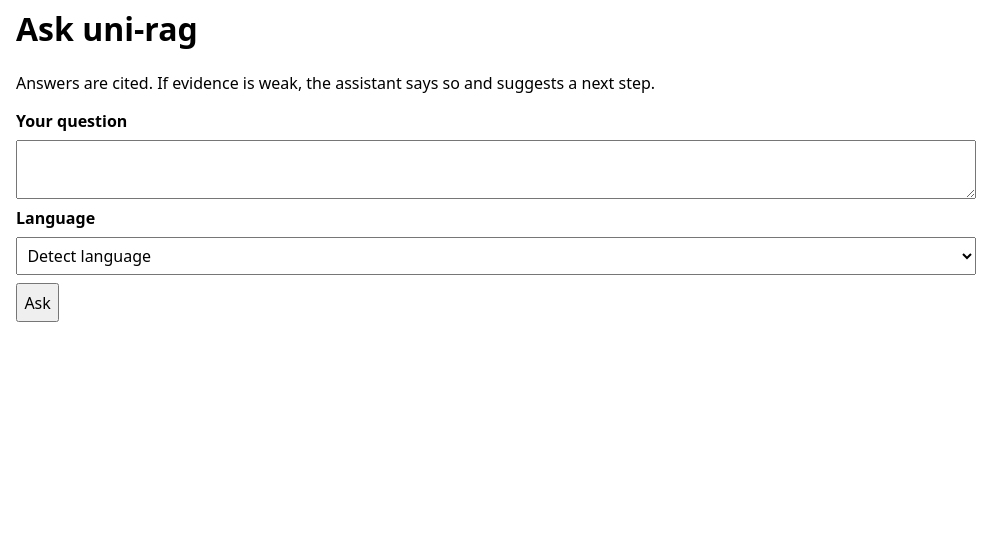
Test case: ChatPage › renders abstention guidance with no fabricated citation chips
The image size is (993, 536).
In the text box labelled "Your question": (496, 169) 16,140 -> 976,199, type "When is the fee due?"
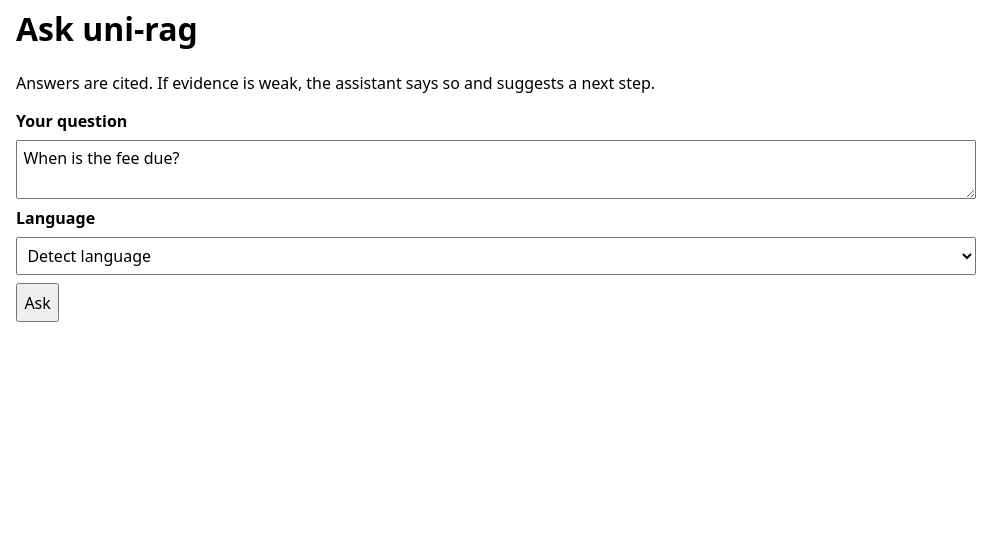
Click the button "Ask": (38, 303) 16,283 -> 59,322
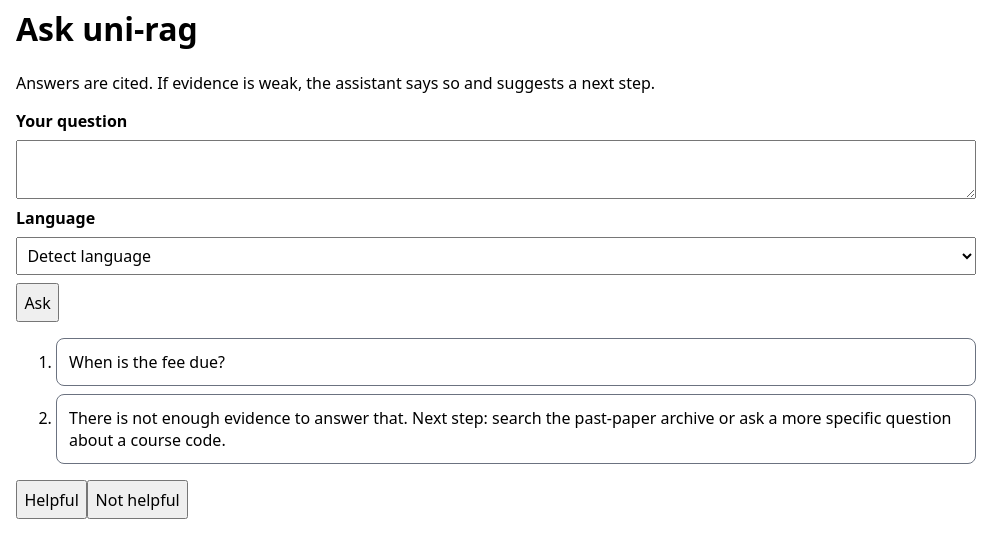
Now the text "not enough evidence" is shown, box 69,407 -> 952,451
